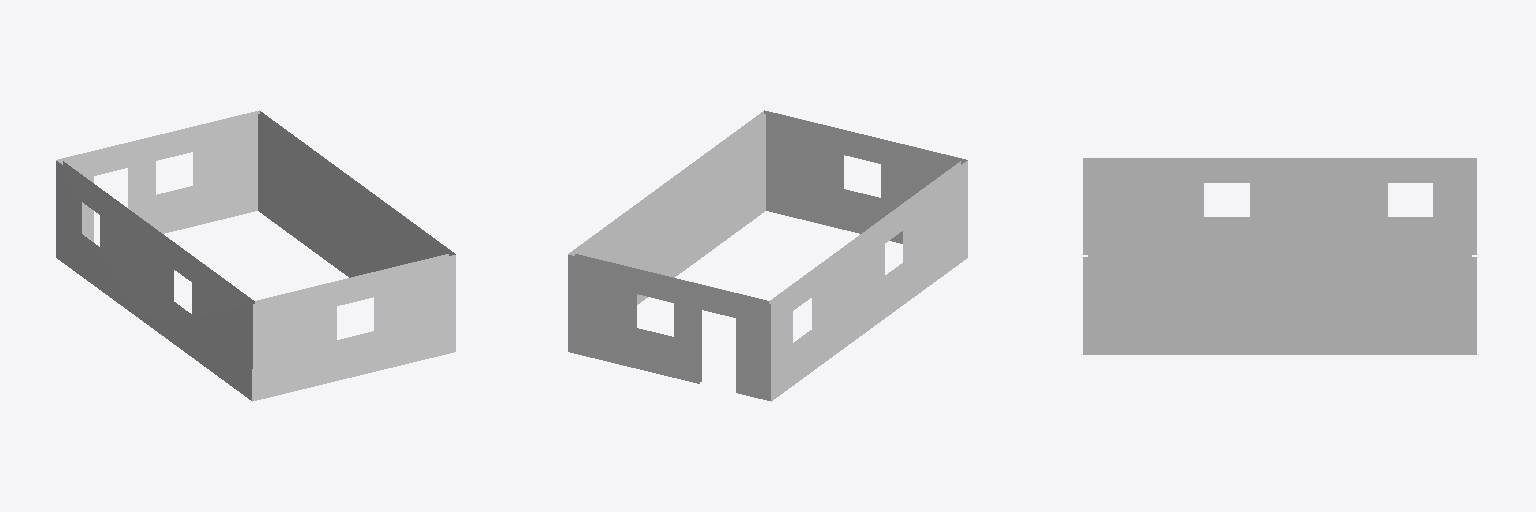
Rendered from Wall7.obj.
The picture shows the model from 3 angles: view 1: azimuth 30°, elevation 25°; view 2: azimuth 150°, elevation 25°; view 3: azimuth 270°, elevation 25°; orthographic projection.
Visible parts, largest first — view 1: Wall7; view 2: Wall7; view 3: Wall7.
Part boxes in pixels (left/top/right/bottom): Wall7: left=56, top=110, right=455, bottom=401; Wall7: left=568, top=110, right=967, bottom=401; Wall7: left=1083, top=158, right=1476, bottom=354.
Bounding box in the file's own units: 6.99 × 3.2 × 11.69.